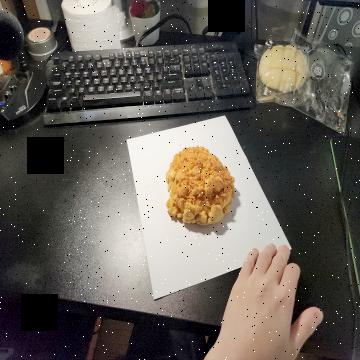soboru_bread: (164, 145, 235, 228)
